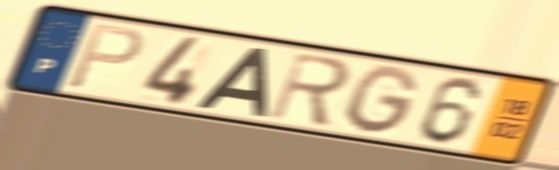4: (140, 33, 205, 106)
6: (417, 73, 485, 147)
A: (193, 44, 273, 120)
G: (343, 63, 423, 138)
P: (62, 21, 148, 92)
R: (265, 49, 353, 129)
